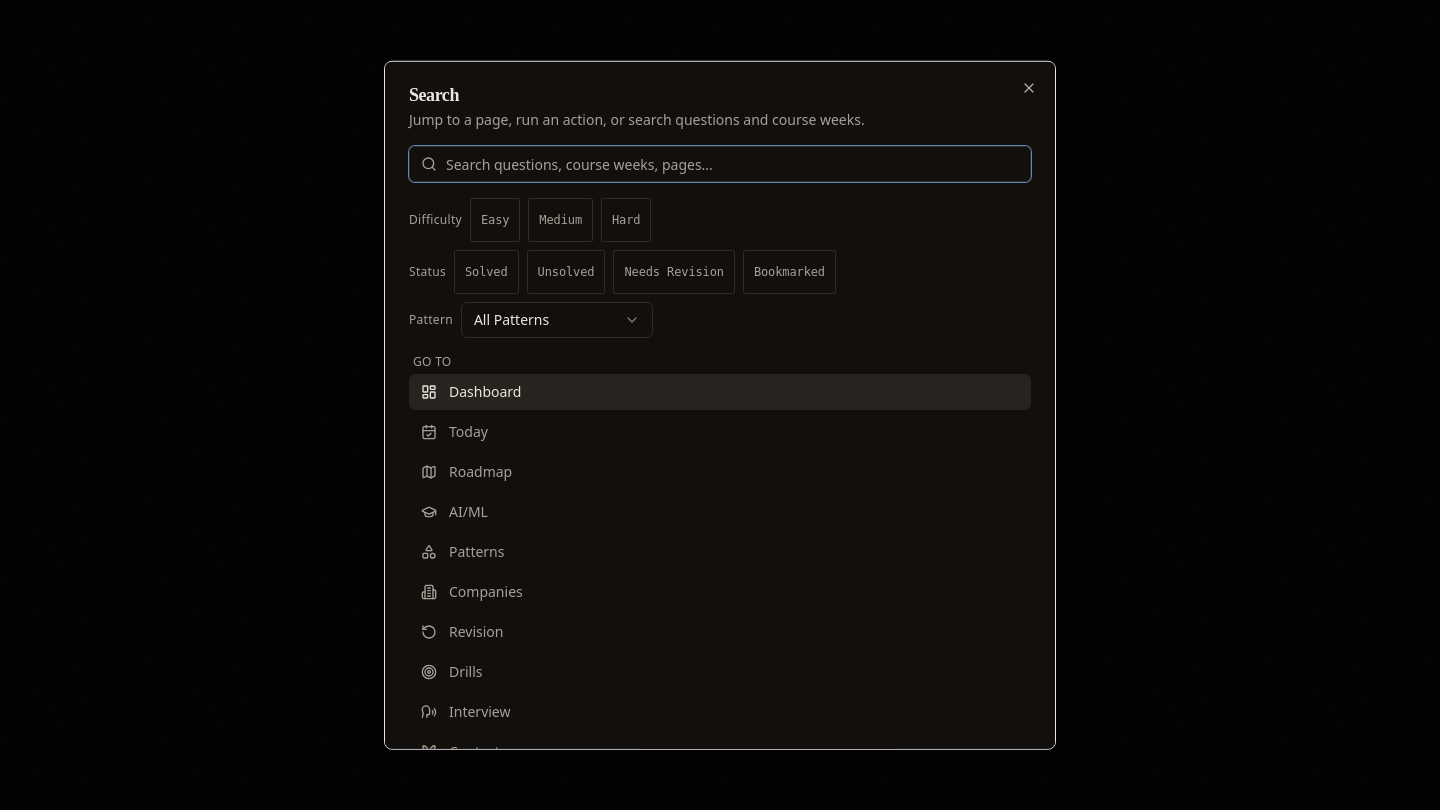
Test: SearchDialog › typing "3Sum" shows exactly one result, with its difficulty badge and pattern chip
The width and height of the screenshot is (1440, 810).
Type "3Sum" into the dropdown with placeholder "Search questions, course weeks, pages..." at {"x": 720, "y": 164}, box [409,146,1031,182]
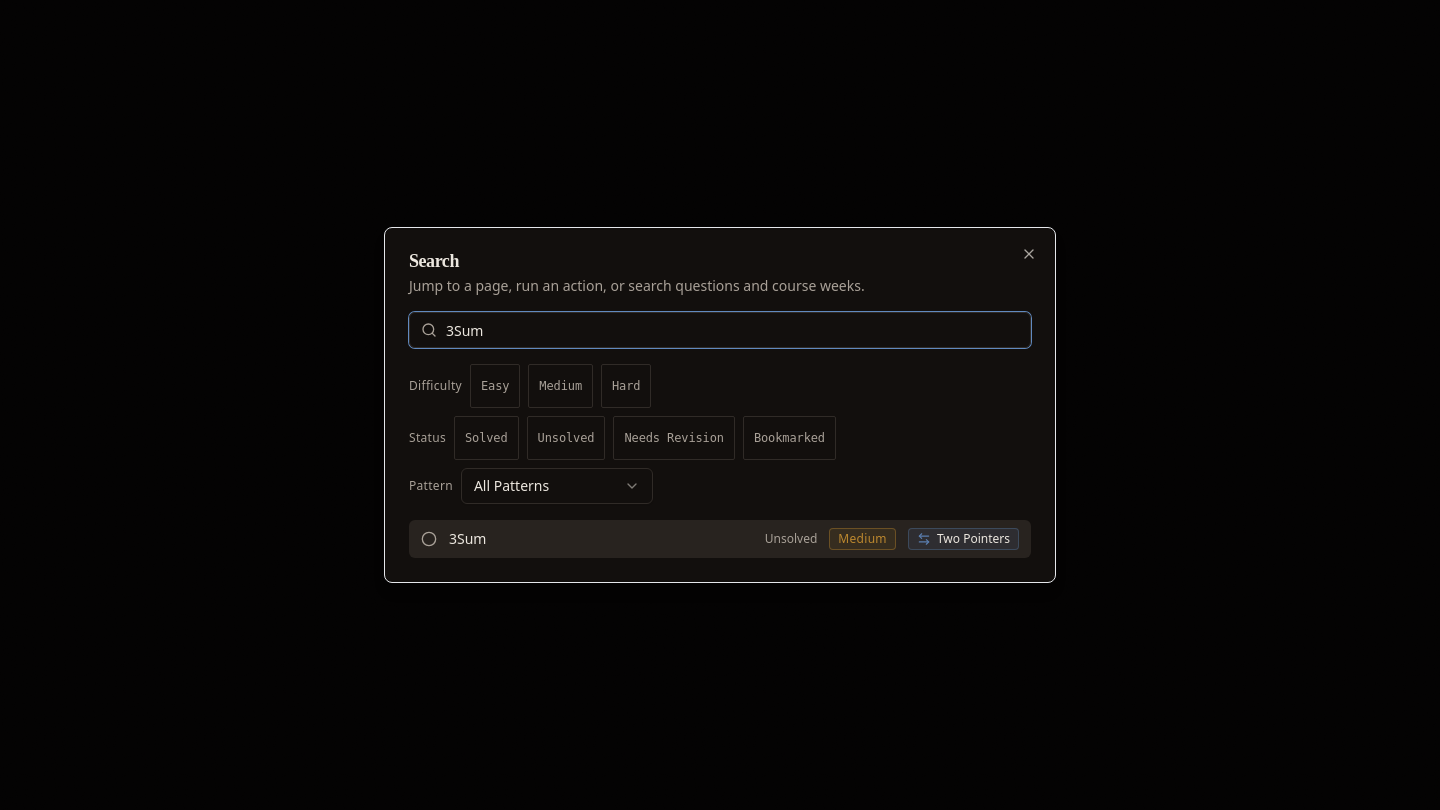
Result: the text "Medium" is shown at [829,528,896,550]
Result: the text "Two Pointers" is shown at [908,528,1019,550]
Result: the number of options "3Sum Unsolved Medium Two Pointers" is 1 at [409,520,1031,558]
